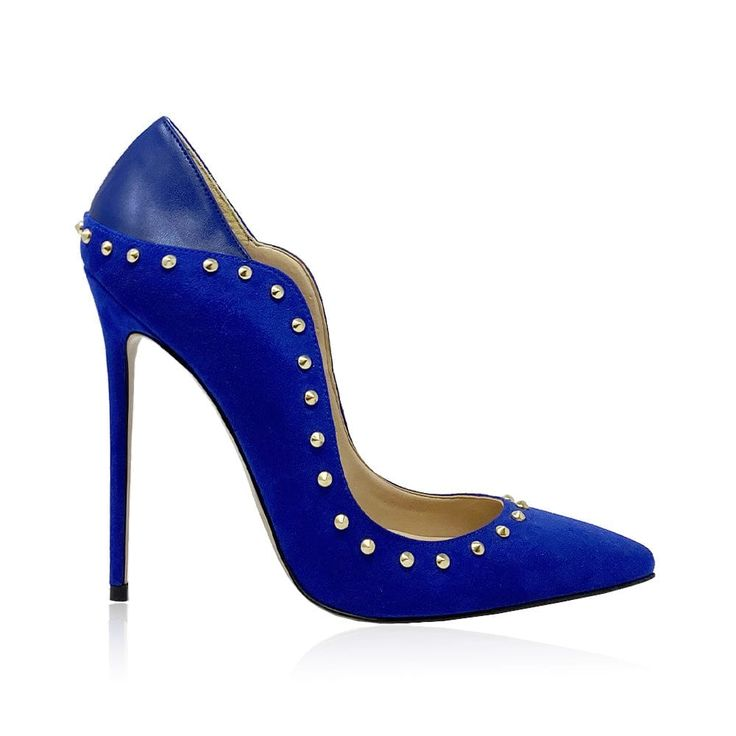gamuza: (80, 230, 654, 618)
